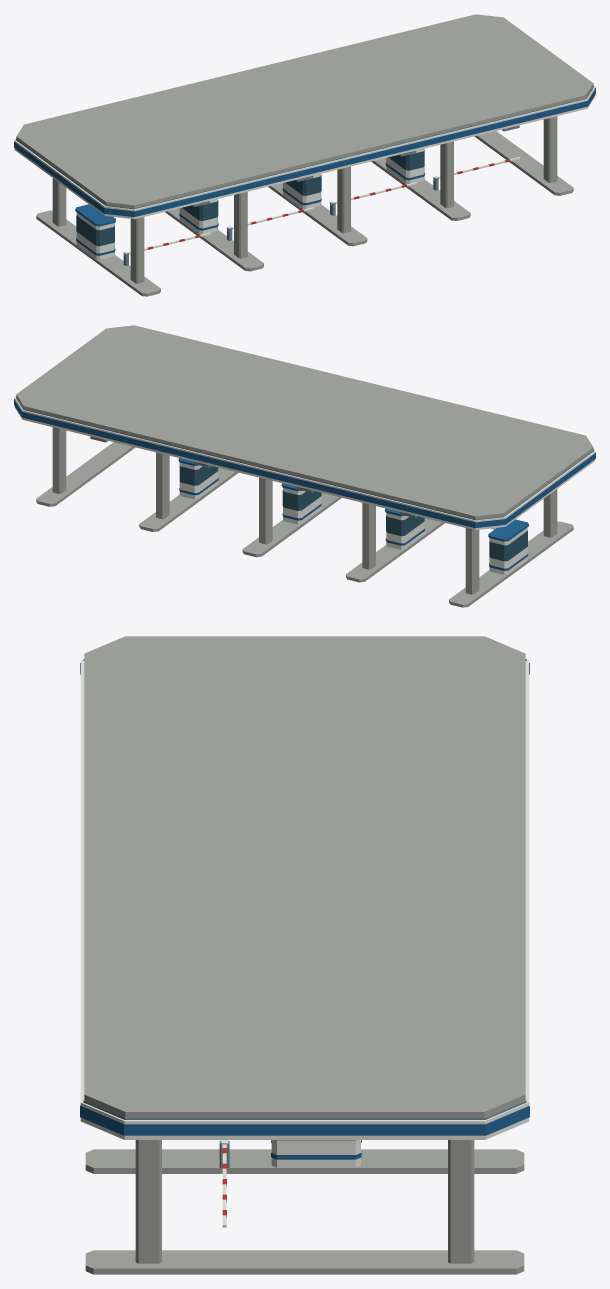
File: landmark_checkpoint.glb
3 renders of one model, top to bottom at view 1: azimuth 30°, elevation 25°; view 2: azimuth 150°, elevation 25°; view 3: azimuth 270°, elevation 25°, orthographic. The views are drawn at different scales.
Visible parts, largest first — view 1: landmark_checkpoint; view 2: landmark_checkpoint; view 3: landmark_checkpoint.
Boxes of the visible parts, x1,y1,x2,y2 form: landmark_checkpoint: [14, 14, 595, 296]; landmark_checkpoint: [14, 325, 595, 607]; landmark_checkpoint: [80, 636, 529, 1274].
Size of the model in its own units: 40 by 7.38 by 15.85.
